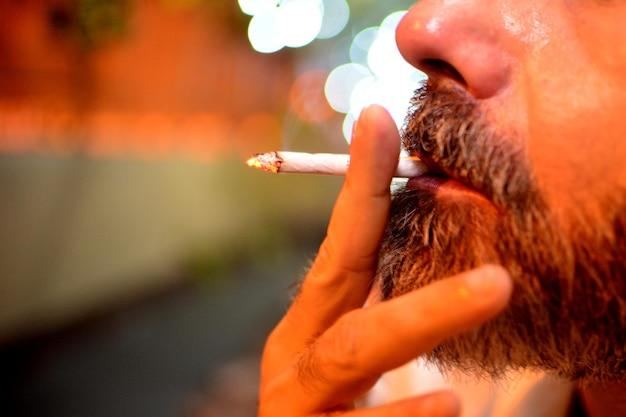cigarette: (247, 151, 349, 175)
